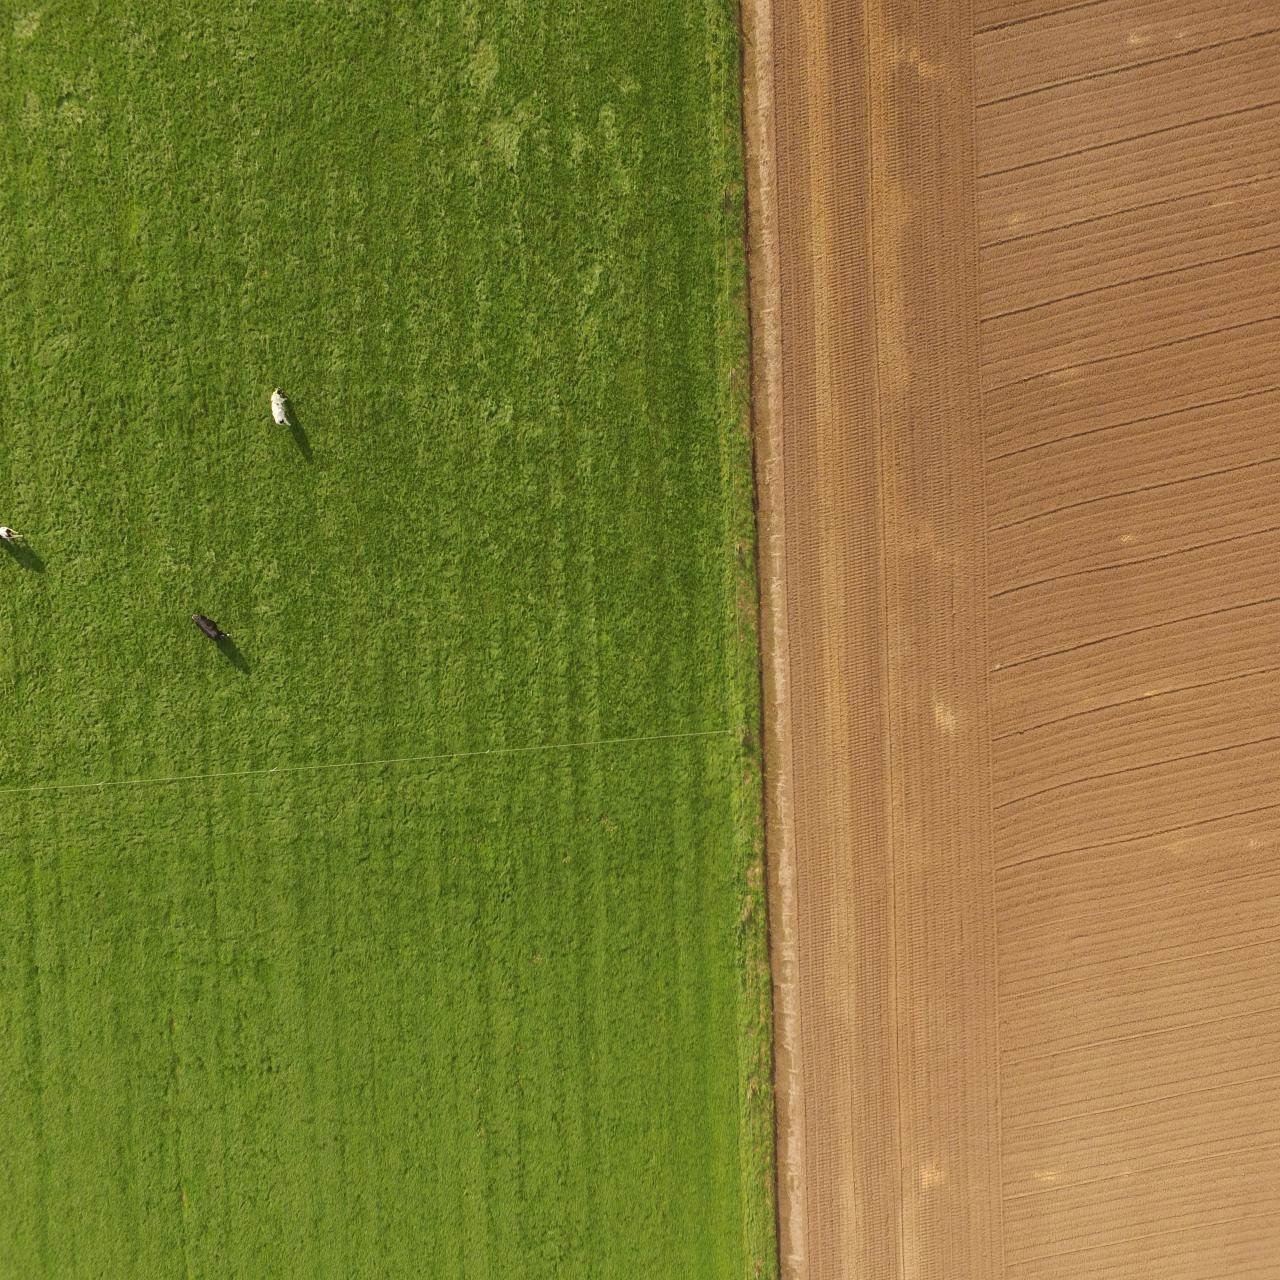cow: (188, 607, 231, 647), (268, 384, 294, 435)
